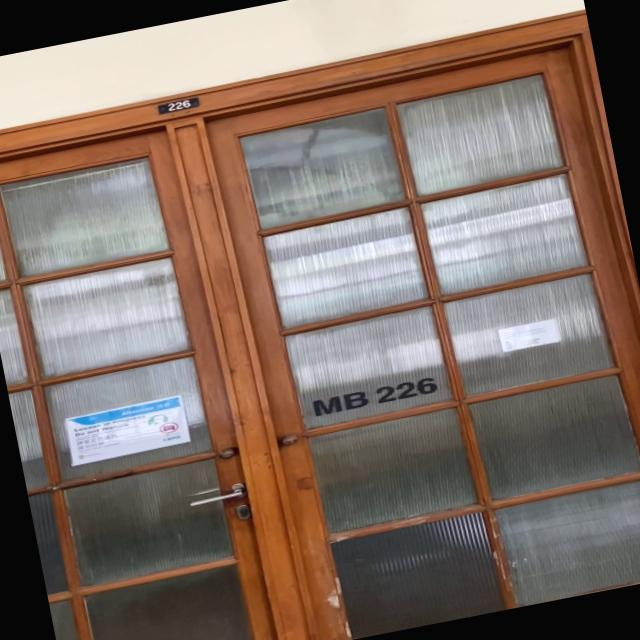room226: (158, 94, 204, 115)
room226Window: (304, 374, 441, 421)
